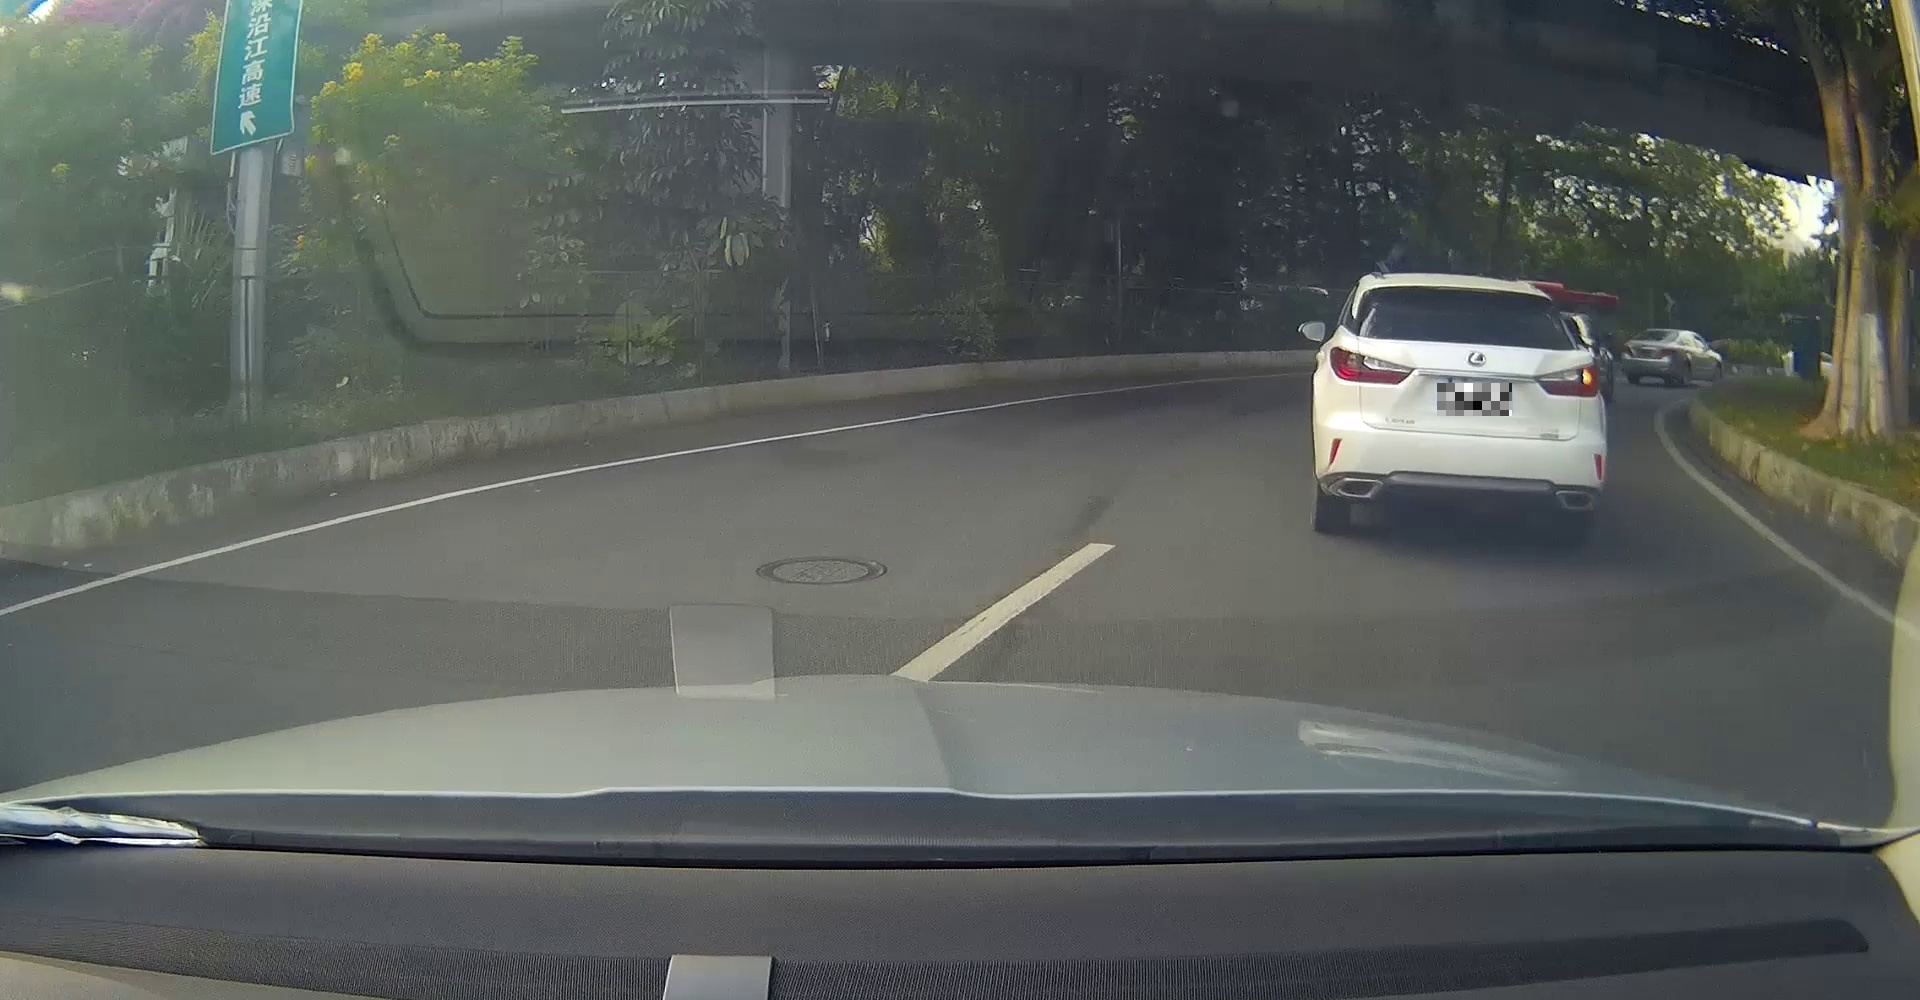L_light: (1328, 346, 1416, 385), (1622, 344, 1634, 358)
R_light: (1534, 364, 1600, 397), (1655, 348, 1677, 358)
T_light: (1440, 286, 1495, 294), (1647, 331, 1657, 332)
day-no: (1622, 329, 1680, 386)
day-right: (1310, 274, 1606, 534)
plate_1: (1437, 383, 1512, 416)
